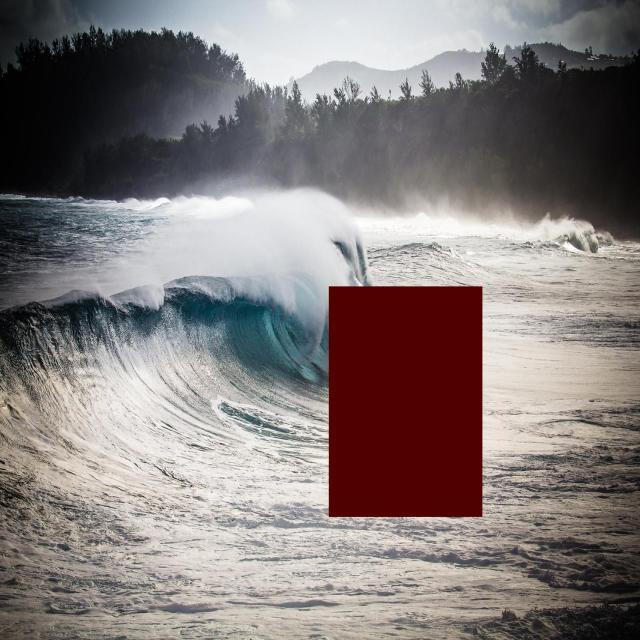RedSquare: (324, 277, 488, 520)
